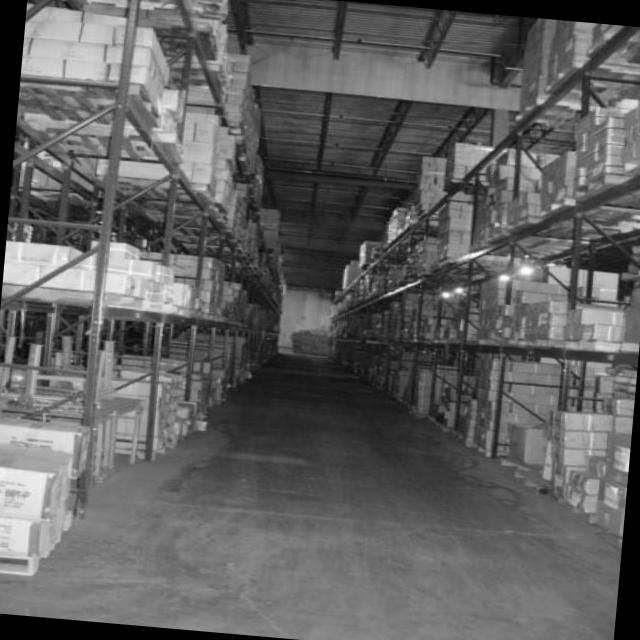ceiling beam: (21, 0, 640, 290)
floor -X: (0, 351, 619, 637)
merchandise: (329, 18, 640, 539), (0, 0, 282, 573)
wall clock: (276, 280, 331, 355)
